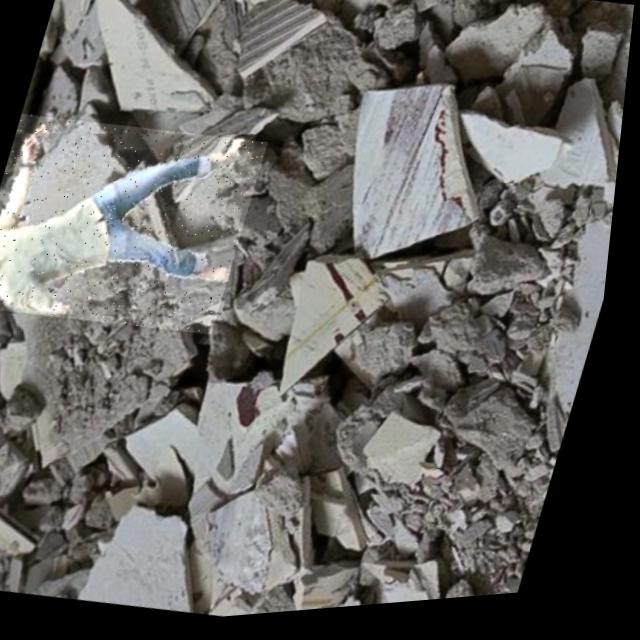Person in Rubble: (0, 98, 276, 354)
